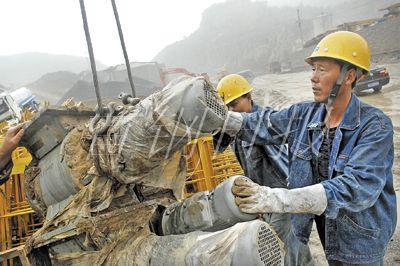helmet: (302, 22, 380, 107), (212, 69, 261, 120)
